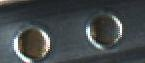joints: (12, 21, 53, 62), (85, 10, 126, 50)
